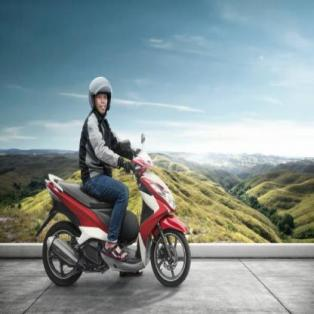Motocicleta: (35, 140, 196, 294)
